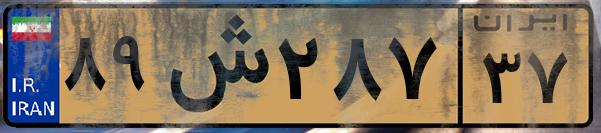2: (270, 28, 330, 110)
3: (475, 38, 525, 113)
7: (385, 28, 445, 110), (525, 38, 570, 115)
8: (330, 28, 385, 110), (57, 26, 110, 100)
9: (110, 28, 158, 98)
ش: (158, 12, 270, 120)
